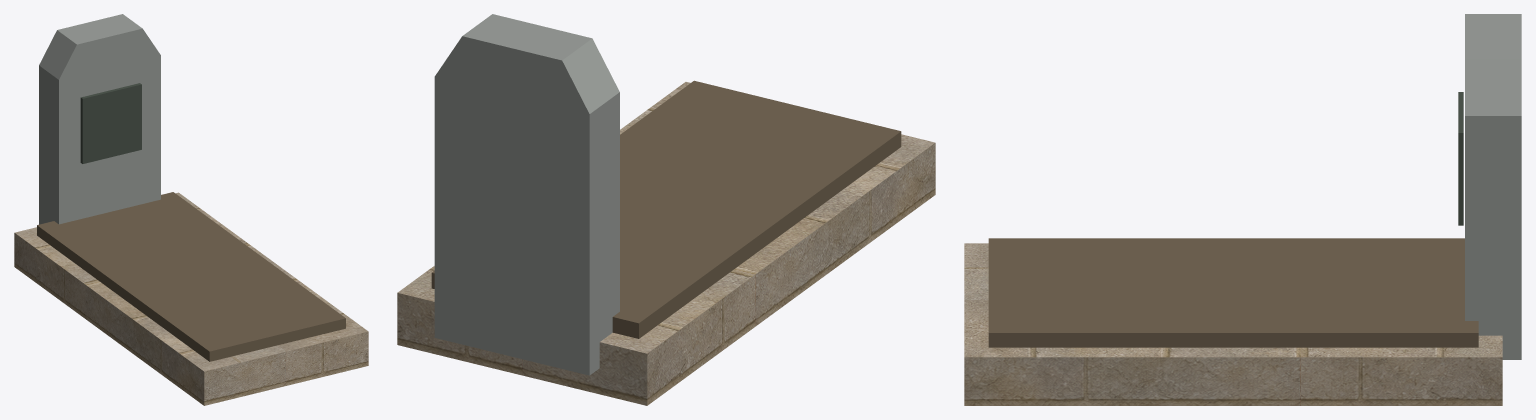
The model's file is grave_stone.glb.
3 renders of one model, left to right at view 1: azimuth 30°, elevation 25°; view 2: azimuth 150°, elevation 25°; view 3: azimuth 270°, elevation 25°, orthographic. The views are drawn at different scales.
Visible parts, largest first — view 1: grave_stone; view 2: grave_stone; view 3: grave_stone.
Boxes of the visible parts, x1=… form: grave_stone: x1=14, y1=14, x2=368, y2=405; grave_stone: x1=397, y1=14, x2=935, y2=405; grave_stone: x1=964, y1=14, x2=1521, y2=405.
Bounding box in the file's own units: 1 × 1.28 × 2.07.
Materials: 4 (1 with a texture image).
